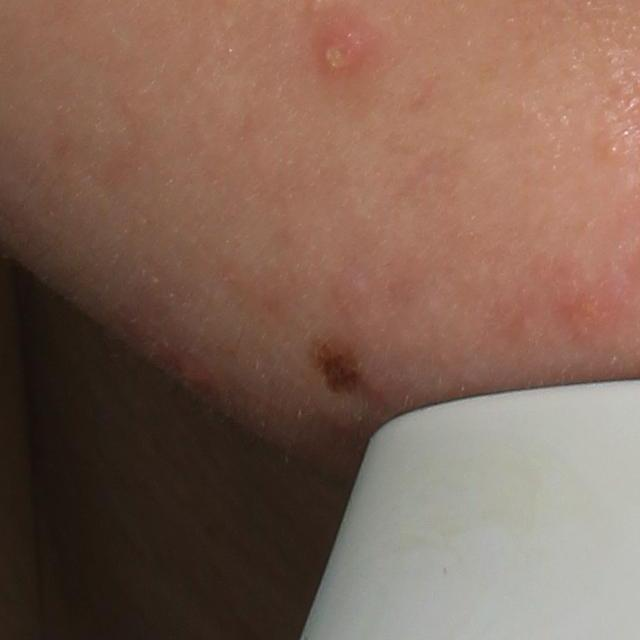comedo: (602, 139, 624, 162)
nevus: (307, 327, 369, 402)
pustule: (313, 20, 372, 84)
